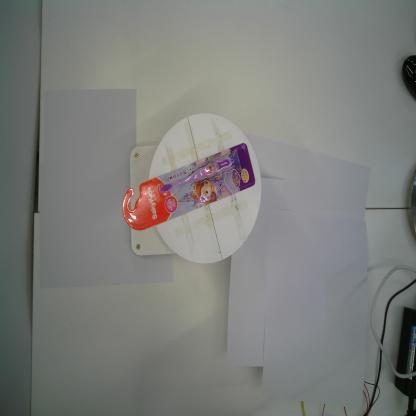Personal Hygiene: (121, 142, 256, 231)
